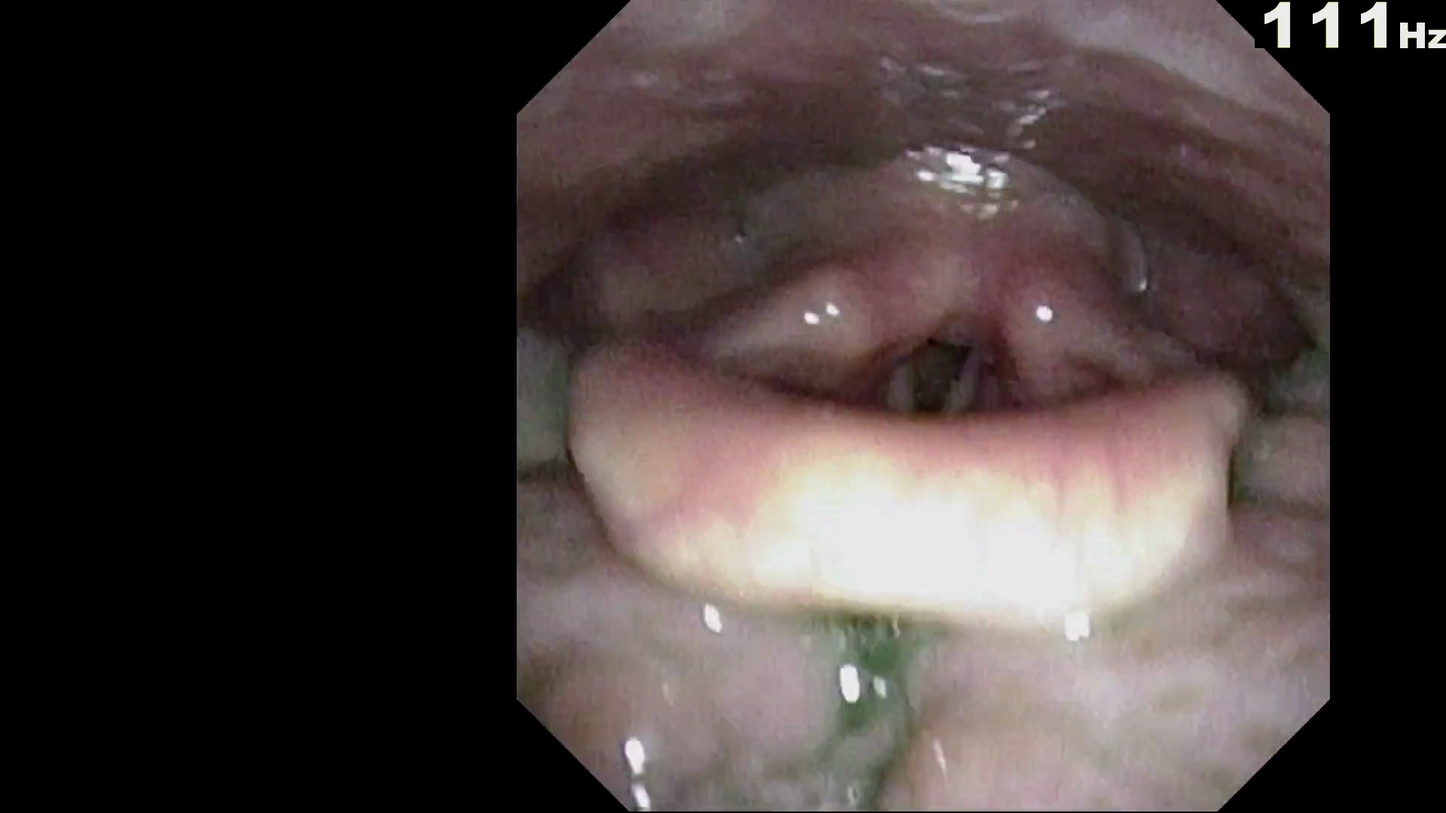epiglottis: (541, 255, 1293, 539)
